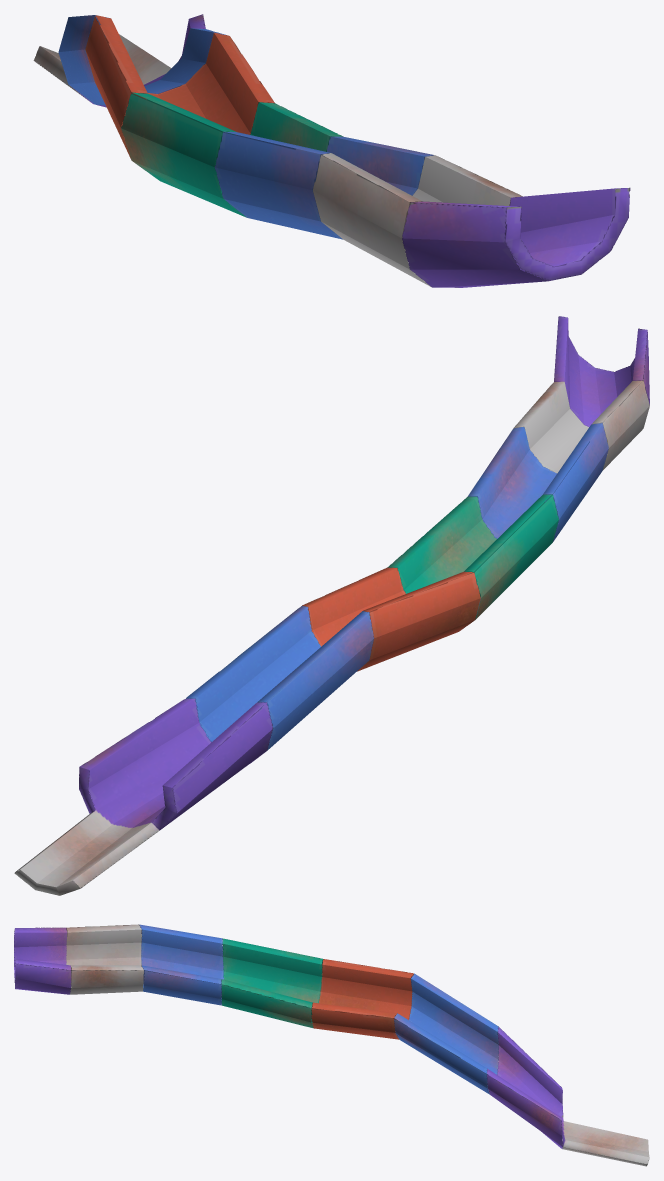
Rendered from DragonSpine.fbx.
3 renders of one model, top to bottom at view 1: azimuth 30°, elevation 25°; view 2: azimuth 150°, elevation 25°; view 3: azimuth 270°, elevation 25°, orthographic. The views are drawn at different scales.
Parts seen in each view (by area): view 1: spine; view 2: spine; view 3: spine.
Boxes of the visible parts, box(x1,y1,x2,y2) form: spine: box(33, 14, 630, 287); spine: box(14, 316, 649, 895); spine: box(14, 924, 649, 1166).
Bounding box in the file's own units: 989 × 1053 × 3277.
